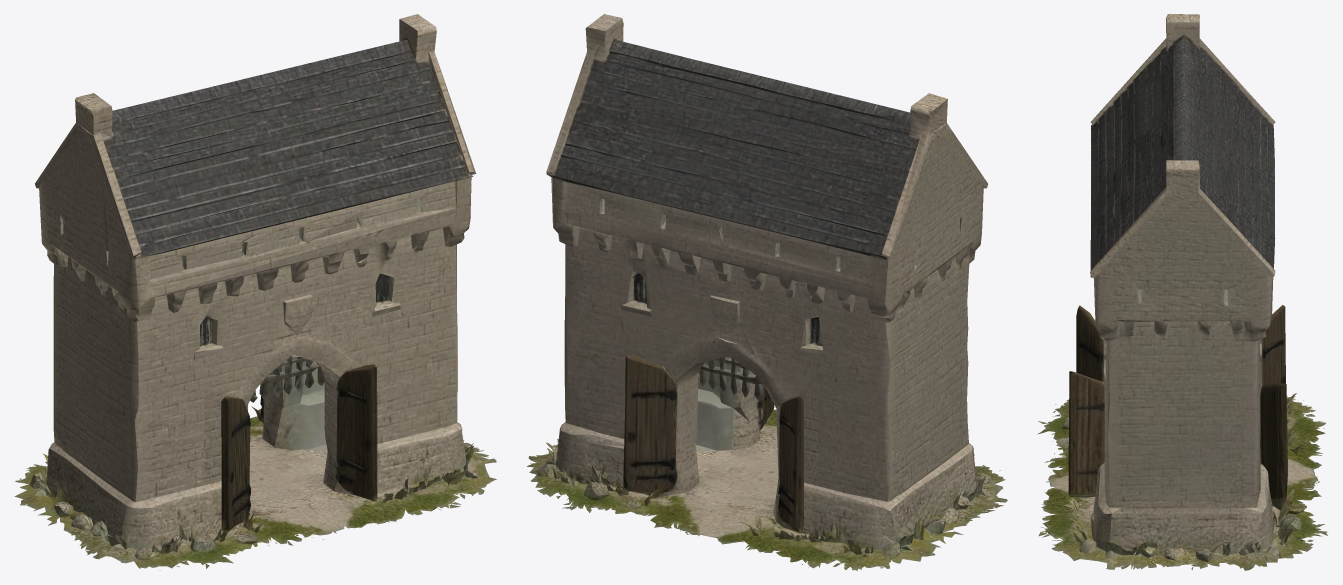
Rendered from gate_stone.glb.
3 renders of one model, left to right at view 1: azimuth 30°, elevation 25°; view 2: azimuth 150°, elevation 25°; view 3: azimuth 270°, elevation 25°, orthographic. The views are drawn at different scales.
Visible parts, largest first — view 1: gate_stone; view 2: gate_stone; view 3: gate_stone.
Boxes of the visible parts, <box> form: gate_stone: <box>14,14,496,570</box>; gate_stone: <box>527,14,1007,570</box>; gate_stone: <box>1037,14,1327,570</box>.
Size of the model in its own units: 1.88 by 1.86 by 1.27.
Materials: 1 (1 with a texture image).
